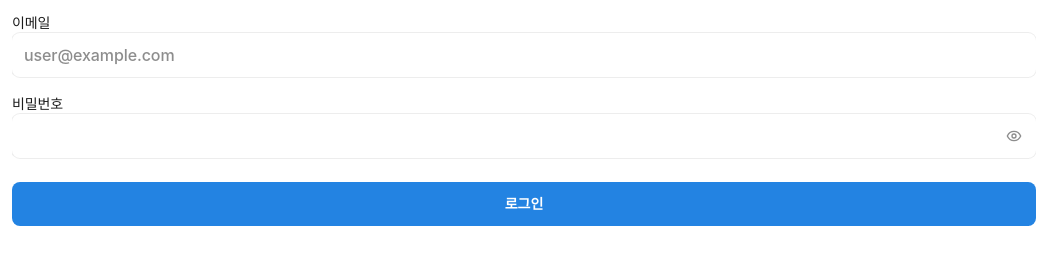
Test case: LoginForm › 잘못된 이메일 형식 → Zod 인라인 에러 (형식 예시 포함)
In the field labelled "이메일": coordinates (524, 55) [12, 33, 1036, 77], type "not-an-email"
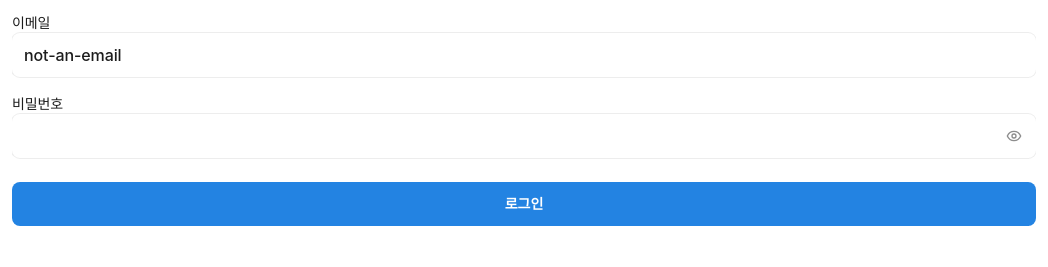
In the password field labelled "비밀번호": coordinates (524, 136) [12, 114, 1036, 158], type "password123"
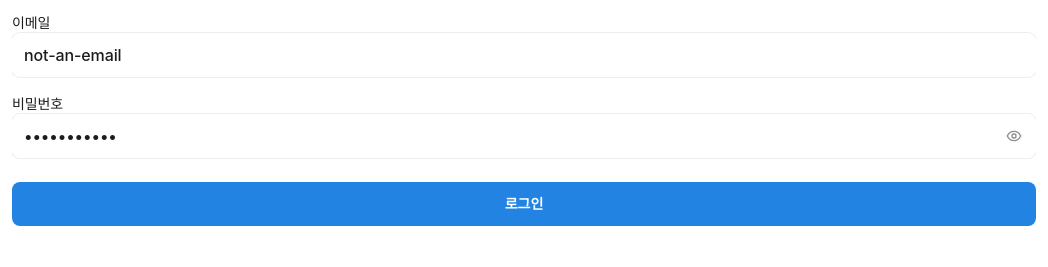
Click the button "로그인": coordinates (524, 204) [12, 182, 1036, 226]
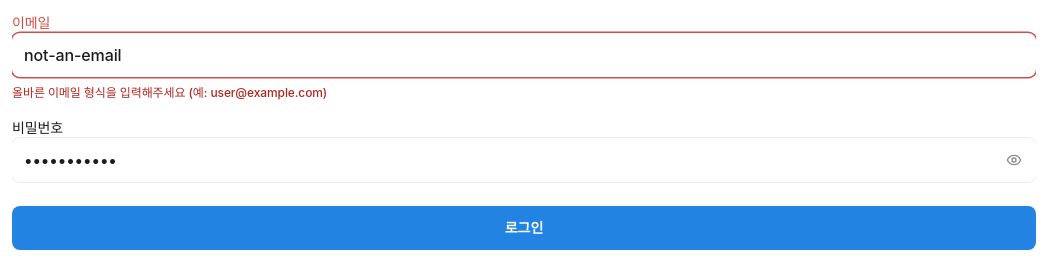
Now the text "올바른 이메일 형식을 입력해주세요 (예: user@example.com)" is shown, box [12, 85, 327, 100]
